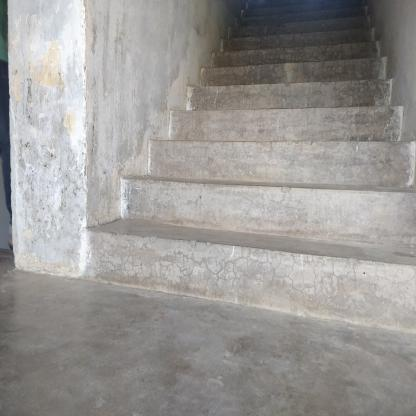stairs: (189, 87, 416, 333)
